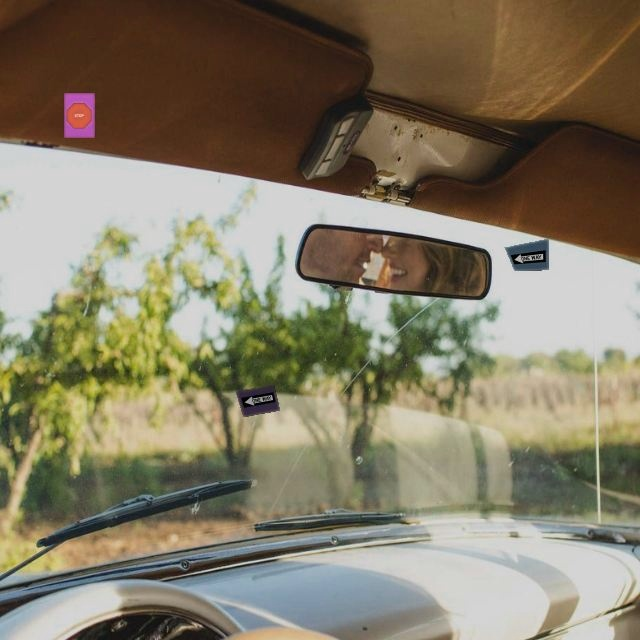ONE_WAY_ left: (511, 250, 547, 268), (241, 392, 276, 408)
STOP: (67, 103, 92, 128)
